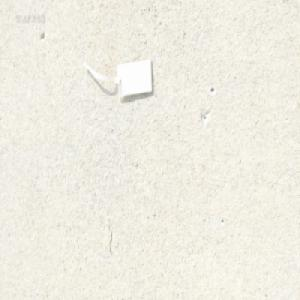LuggageTag: (82, 54, 154, 101)
